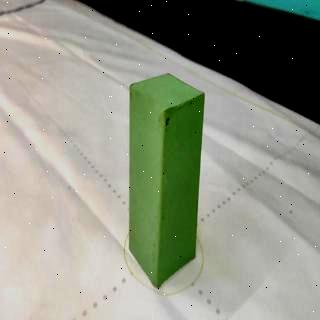greenbox: (129, 72, 207, 288)
